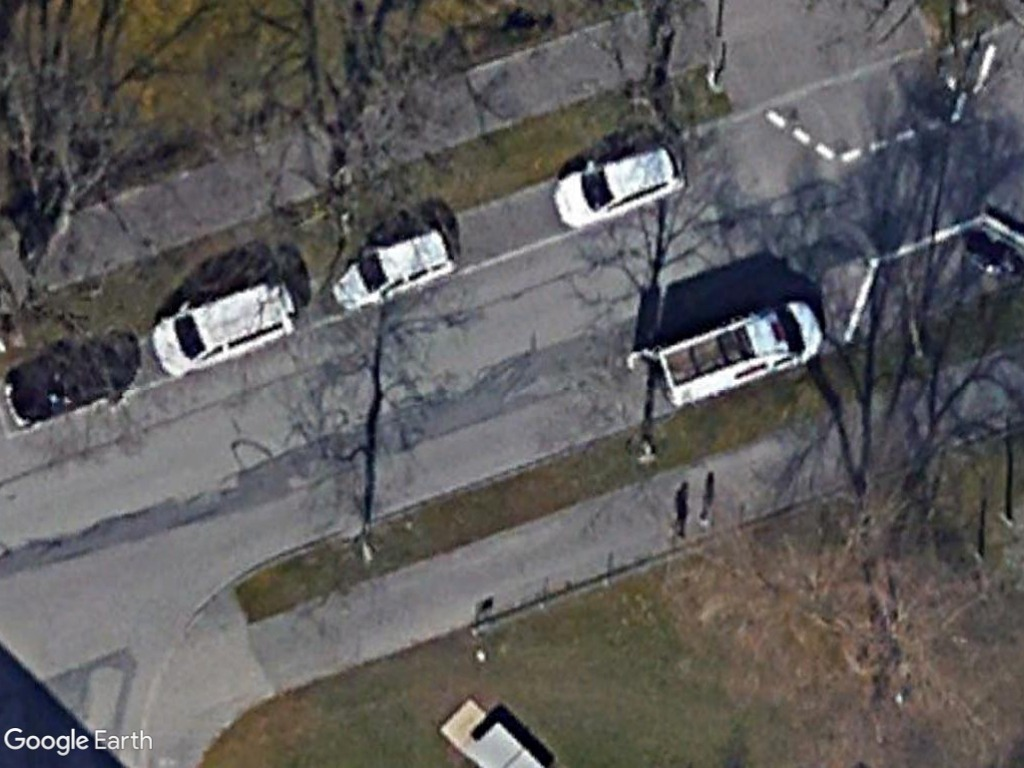car: (143, 274, 297, 382), (550, 139, 696, 231), (328, 223, 459, 310)
others: (651, 296, 828, 400)
